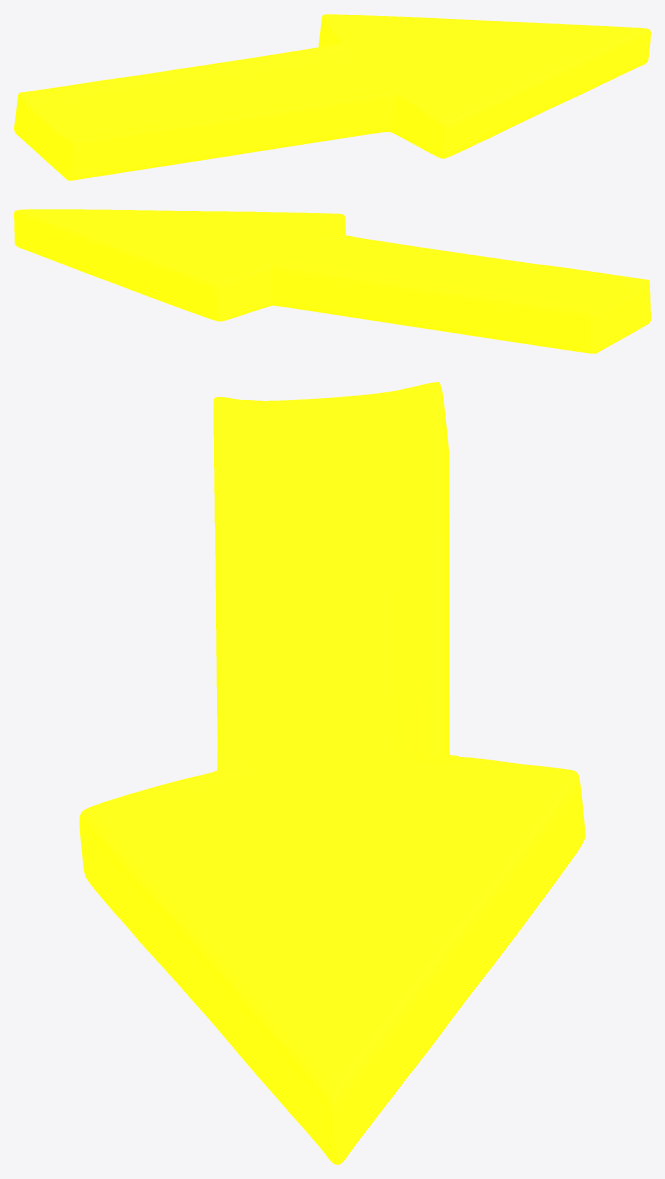
3 views of the same model, one above another, from view 1: azimuth 30°, elevation 25°; view 2: azimuth 150°, elevation 25°; view 3: azimuth 270°, elevation 25° (orthographic). The views are drawn at different scales.
Parts seen in each view (by area): view 1: Mesh_0.001; view 2: Mesh_0.001; view 3: Mesh_0.001.
Boxes of the visible parts, x1,y1,x2,y2 form: Mesh_0.001: [14, 14, 650, 180]; Mesh_0.001: [14, 209, 650, 353]; Mesh_0.001: [79, 382, 585, 1164].
Bounding box in the file's own units: 2 × 0.3109 × 0.7186.
